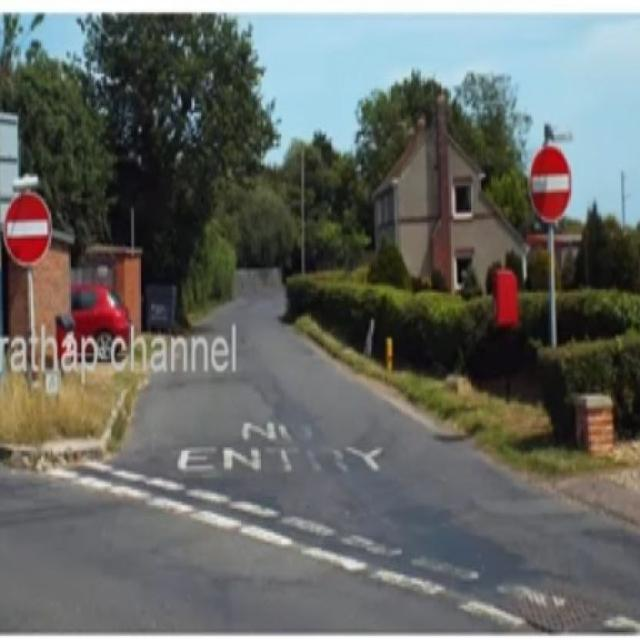No_entry: (0, 194, 54, 268), (529, 149, 575, 221)
